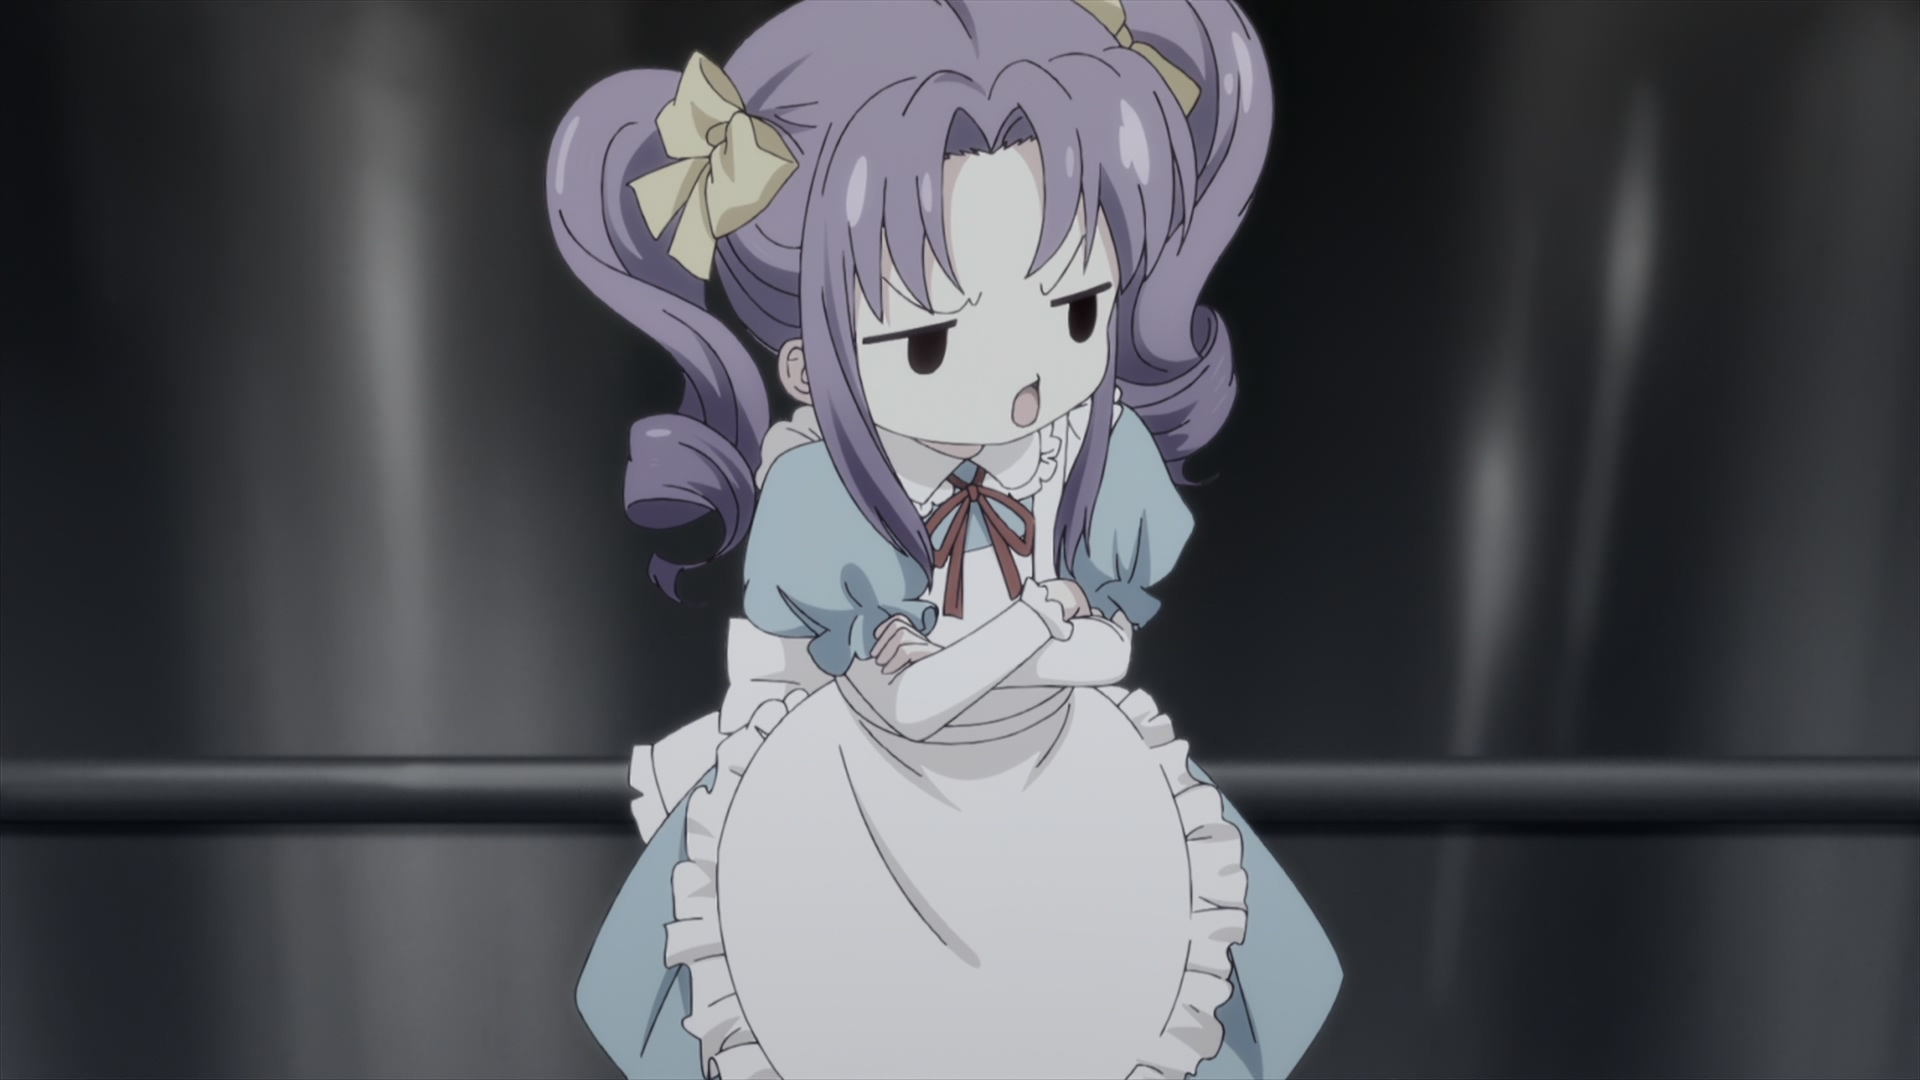阿菊: (546, 1, 1344, 1080)
